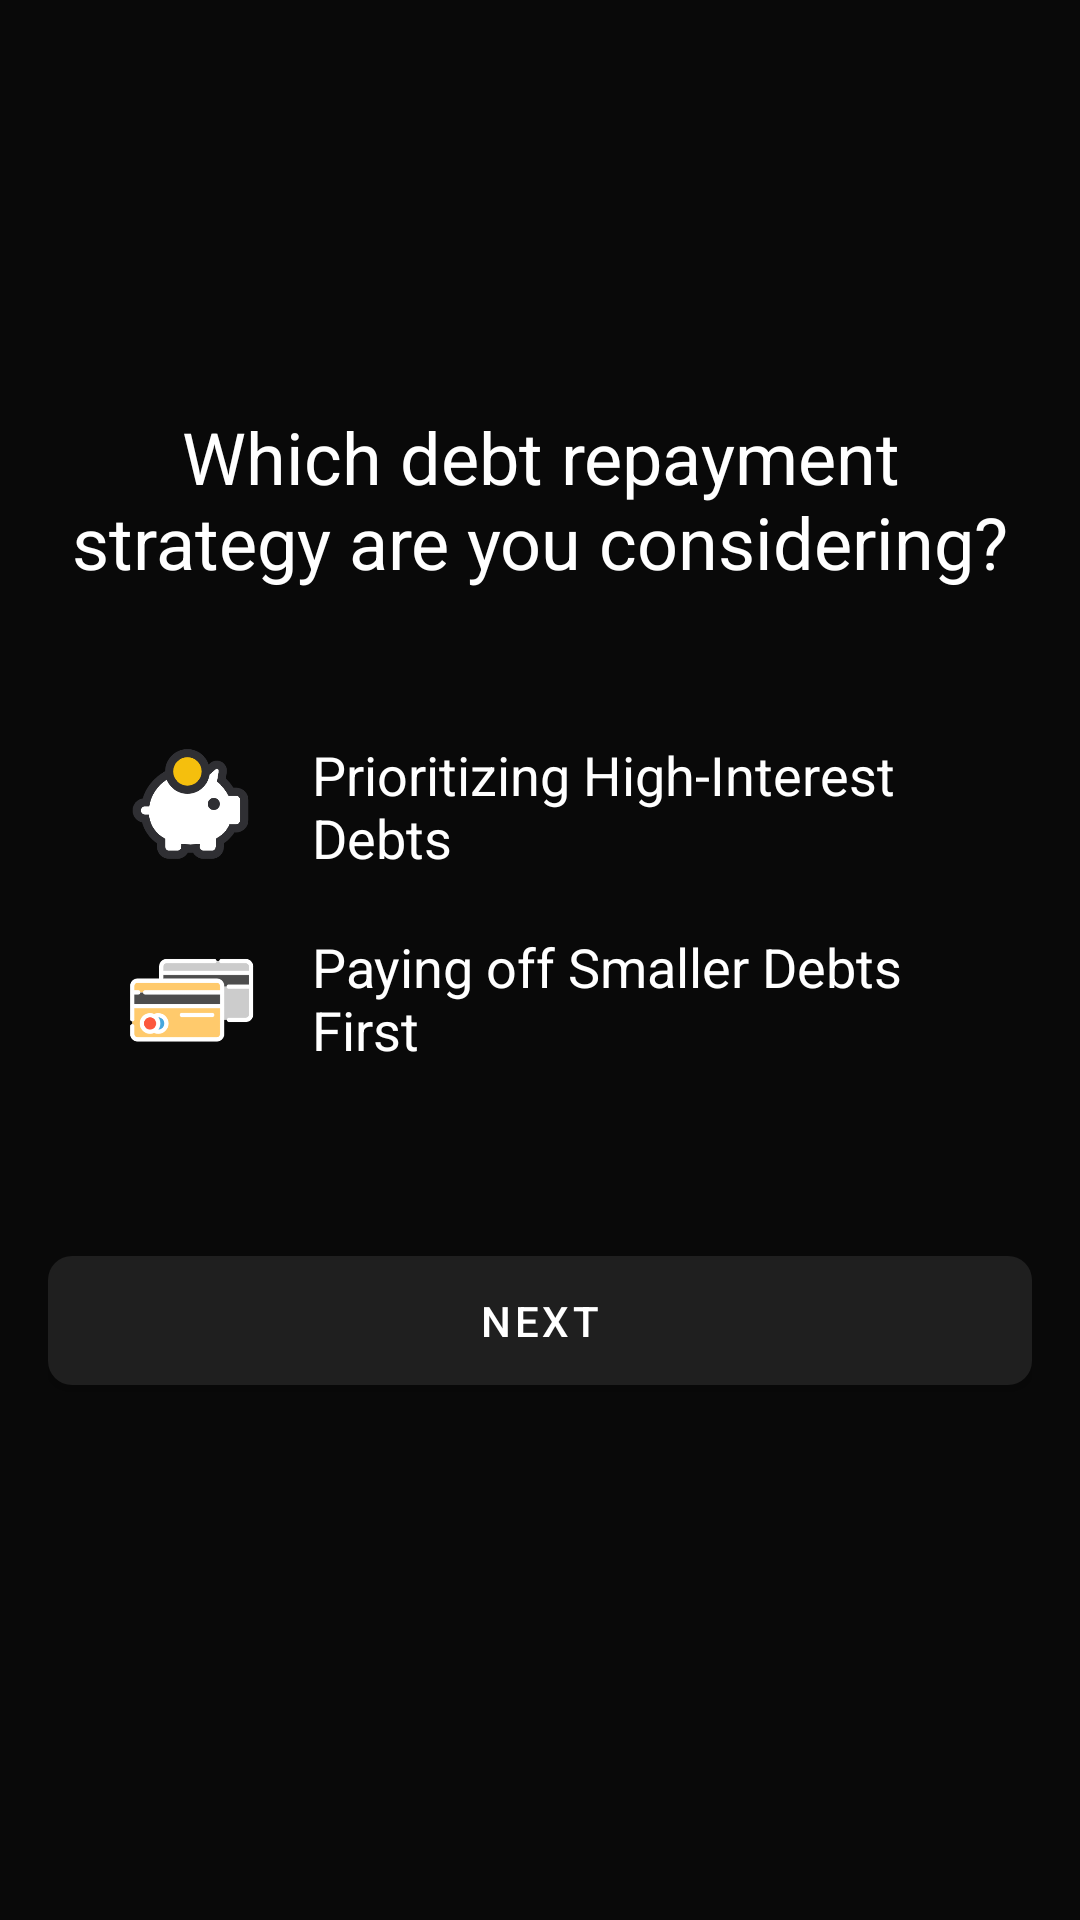

Named icons in this screenshot (1080w x 1920h) and their bounding boxes, (x1, y1, x2, y2):
Emergency Fund and Savings: (133, 749, 248, 859)
